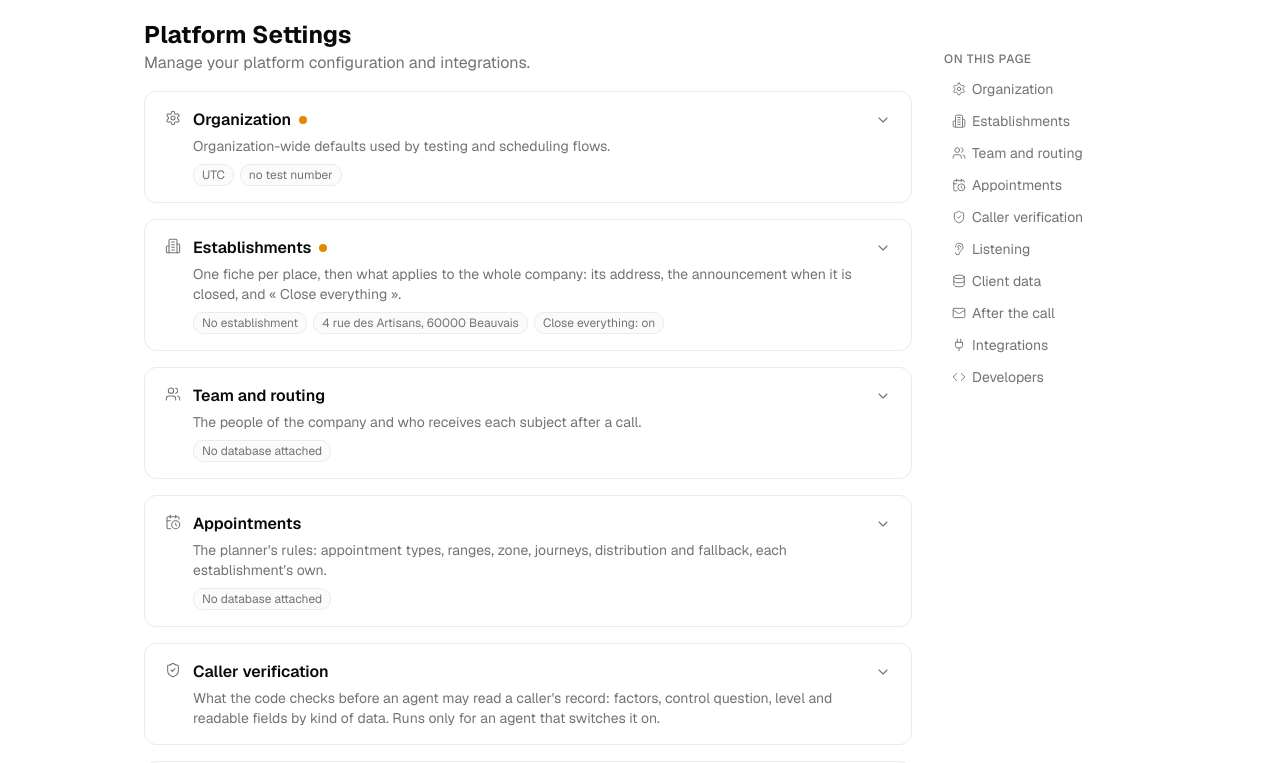
Test: [.mark] the Platform Settings page in themes › names a postal code without its town and blocks the Business theme
The width and height of the screenshot is (1280, 763).
Click the button that starts with "Establishments" at x=528, y=285, box [145,220,911,350]
(page scrolled)
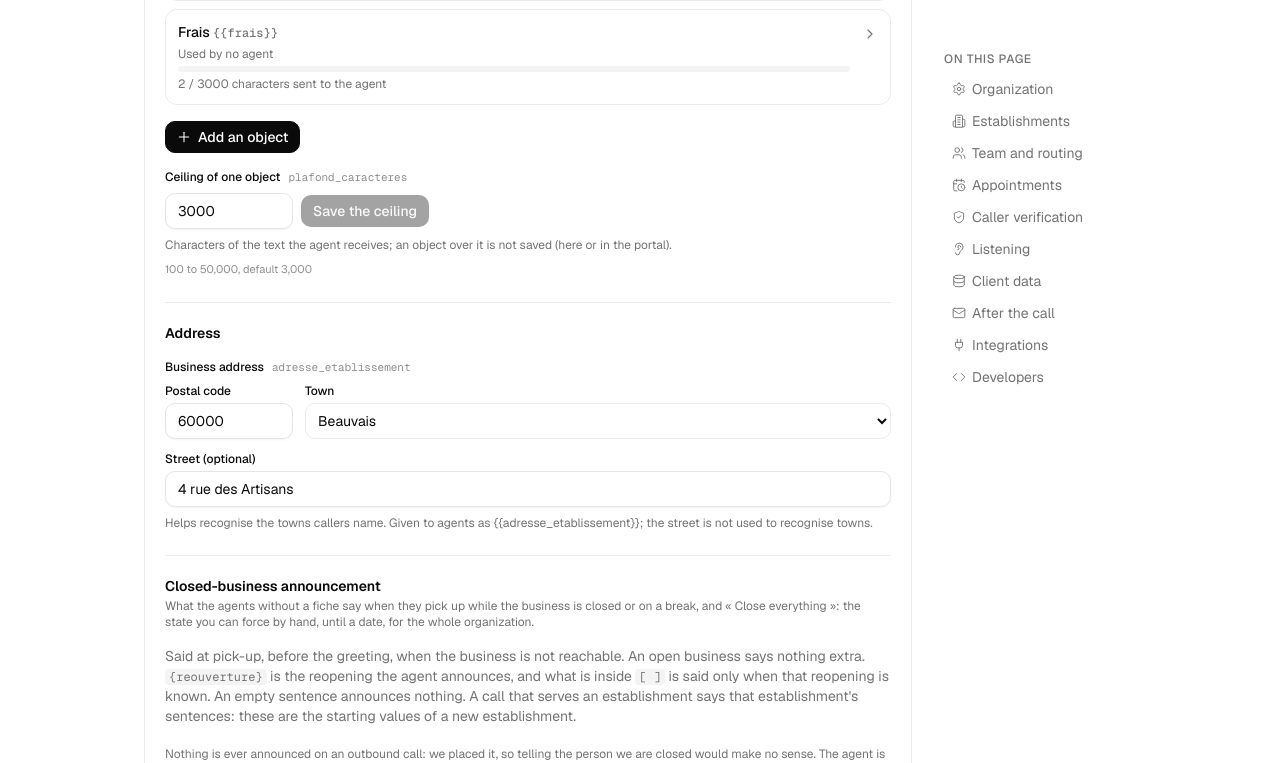
Replace the text in the field with id "settings-business-address-code-postal" with "60300" at x=229, y=421, box [165,403,293,439]
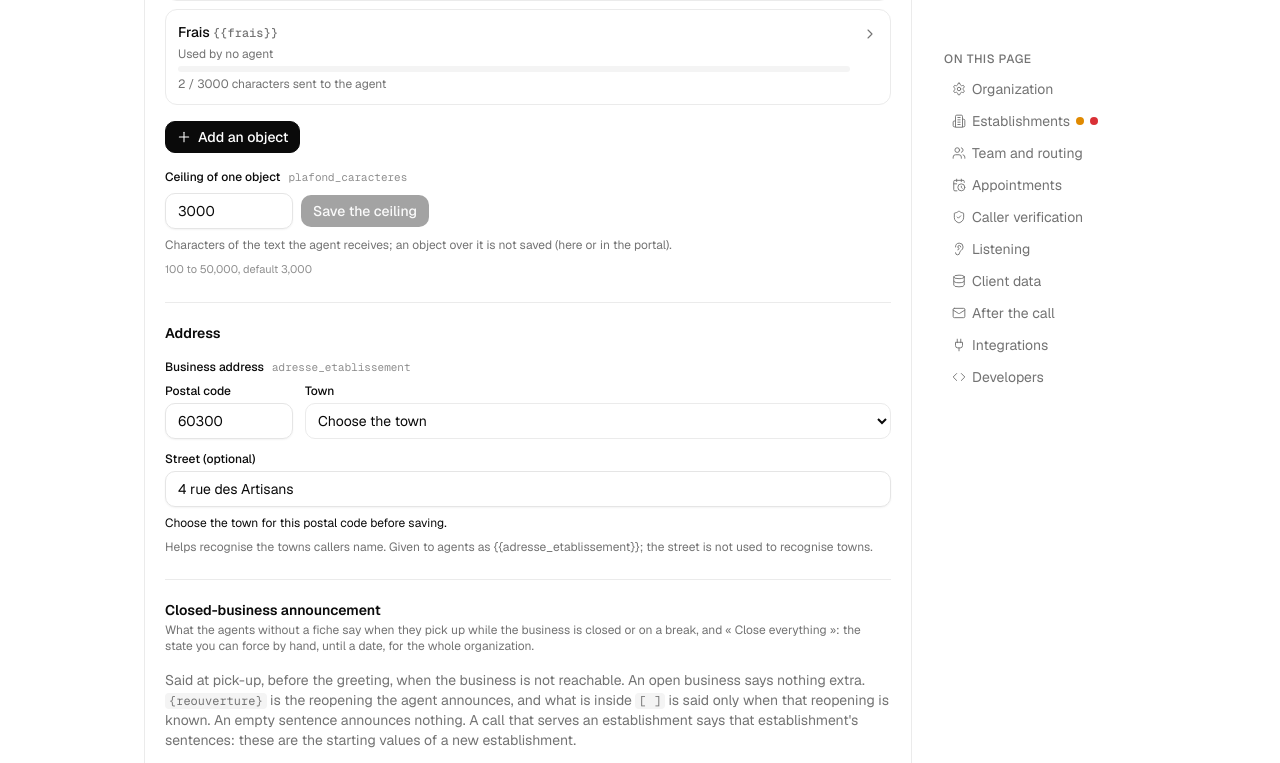
Expected: the picture named "A value cannot be saved" is shown, [1090,117,1098,125]
